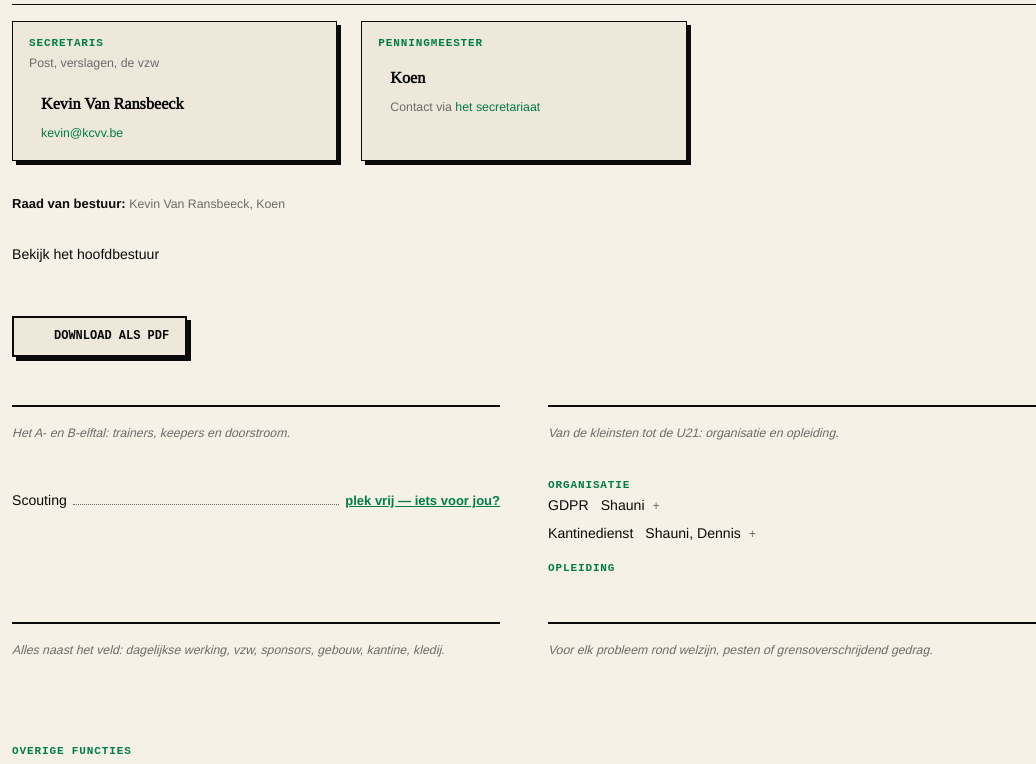
<ClubBook> › unfolds a row in place with the holder's card and the questions answered in that role
Click the text "GDPR" at (568, 505), box [548,497,589,513]
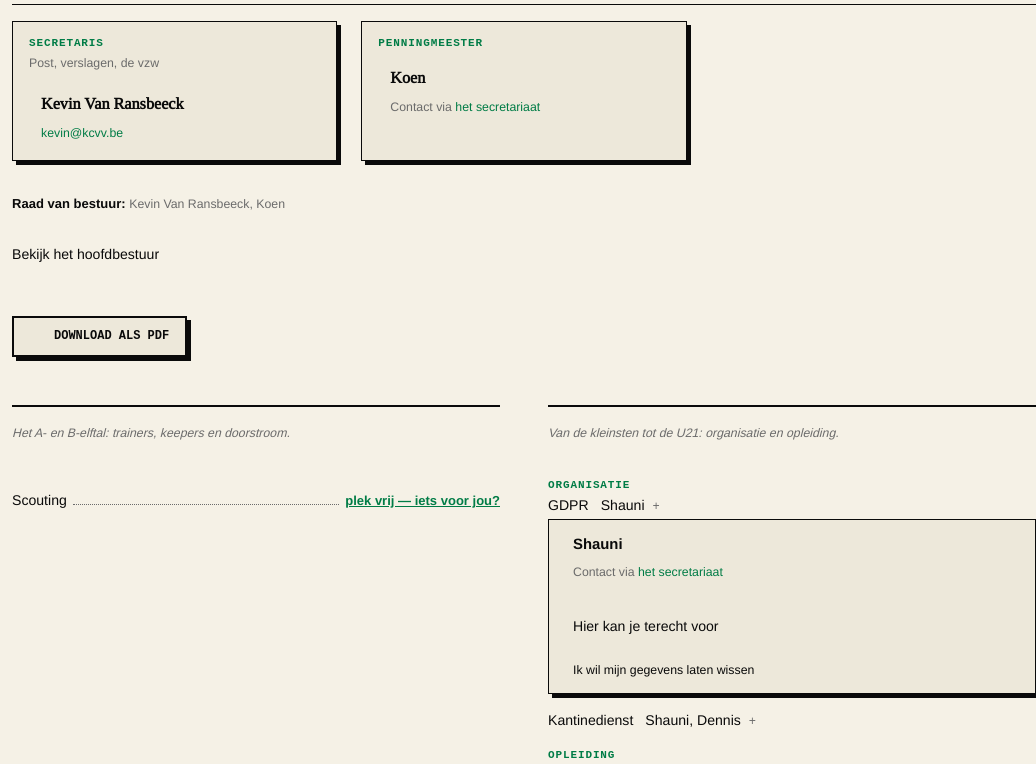
Expected: the text "Hier kan je terecht voor" is shown, [573,618,718,634]
